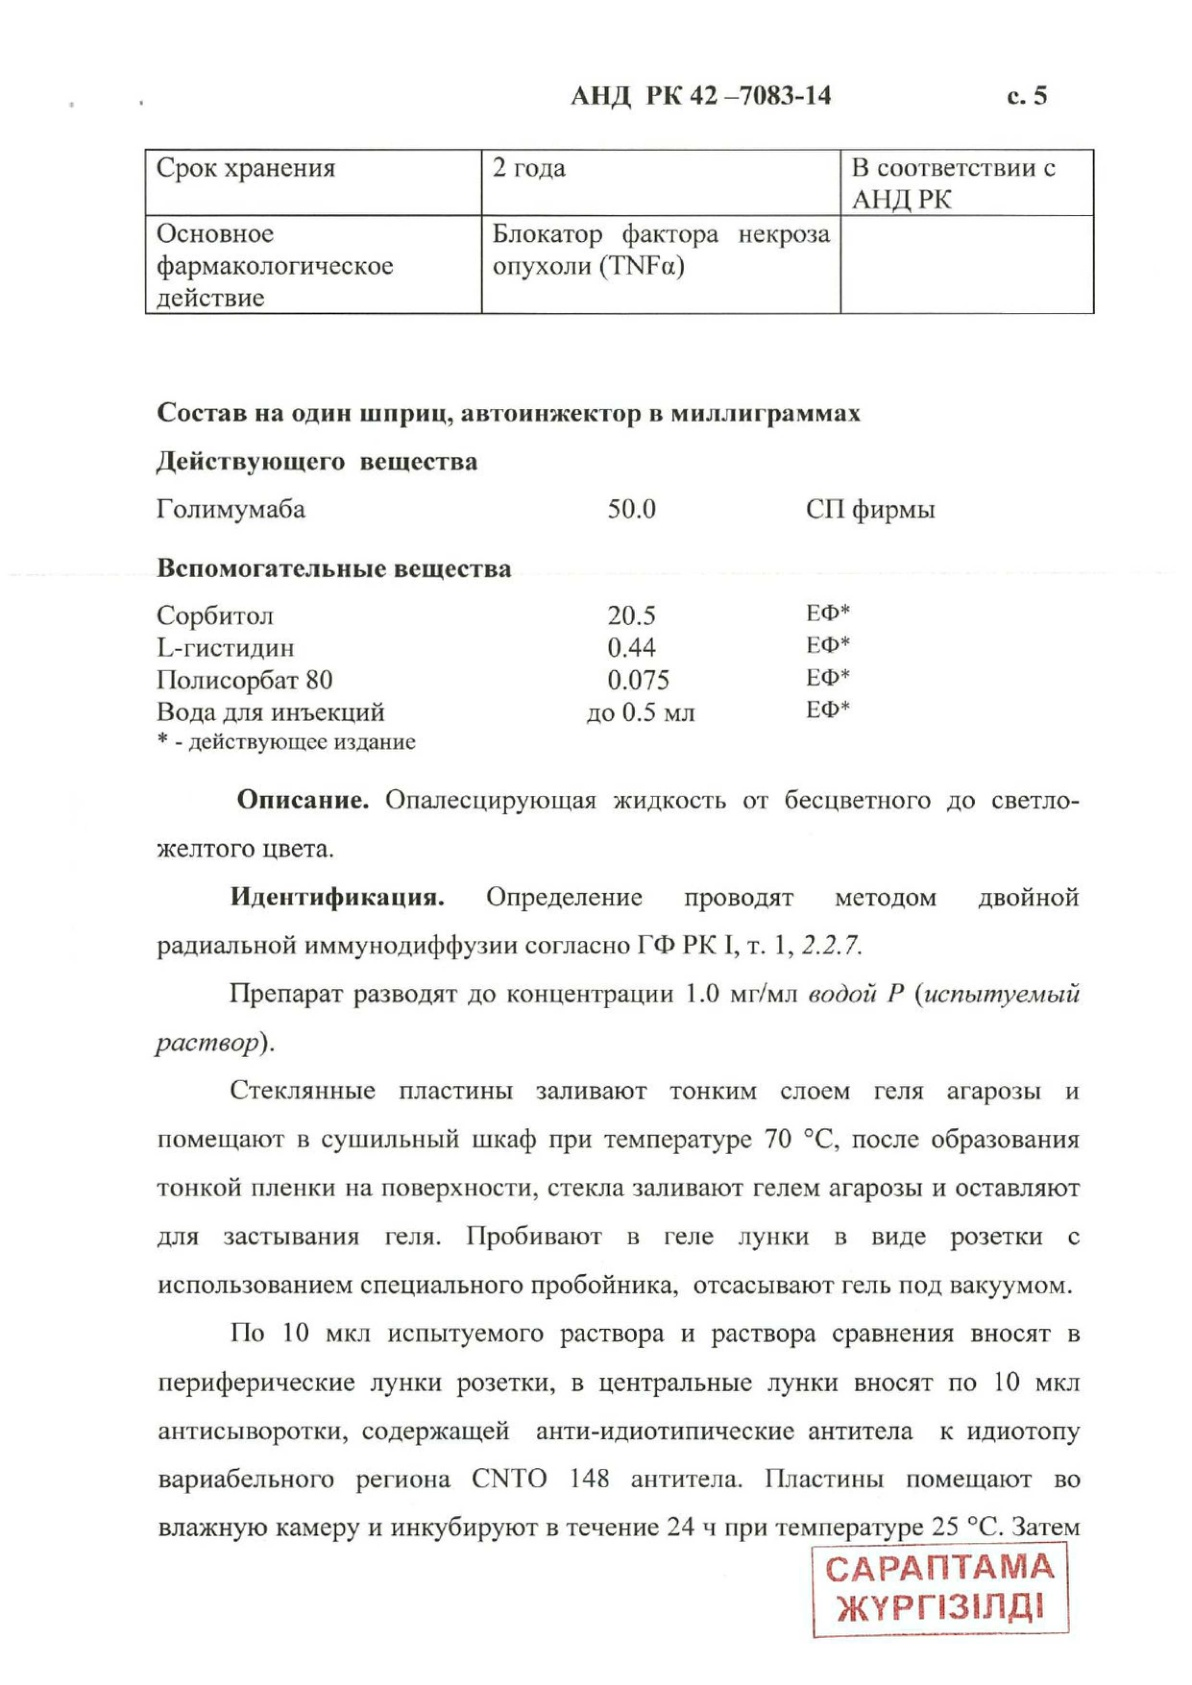full_lined: (142, 147, 1097, 317)
nolines: (147, 446, 940, 760)
